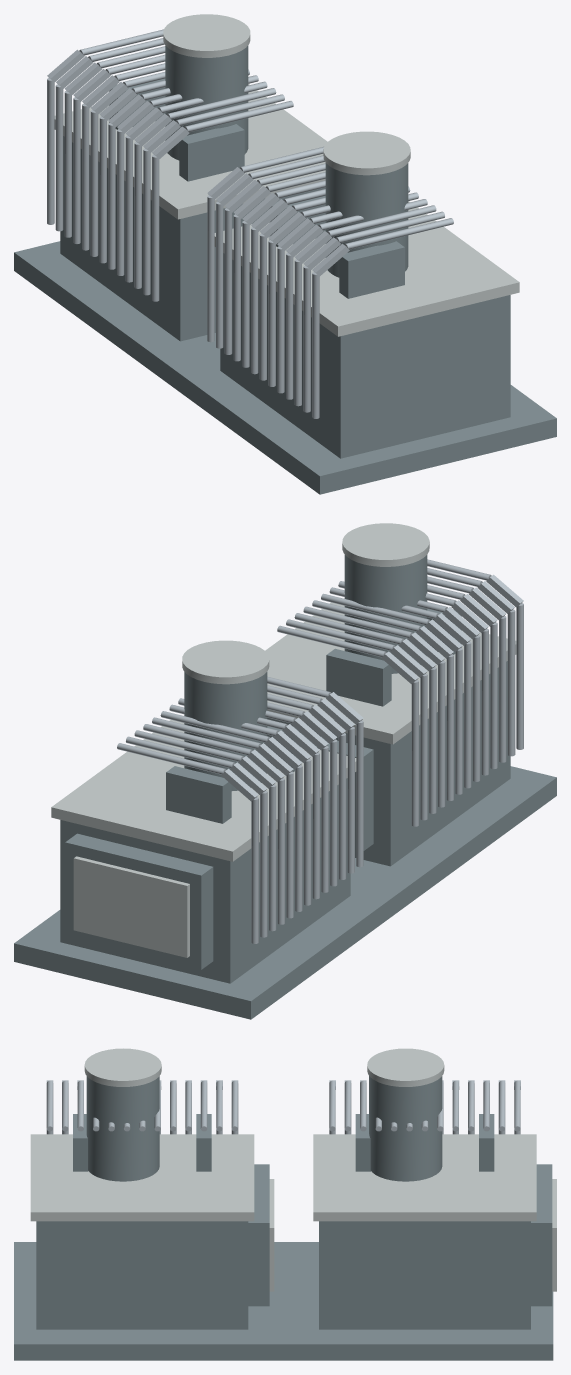
The model's file is press_exit_fin_bank.dae.
3 views of the same model, one above another, from view 1: azimuth 30°, elevation 25°; view 2: azimuth 150°, elevation 25°; view 3: azimuth 270°, elevation 25° (orthographic). The views are drawn at different scales.
Visible parts, largest first — view 1: press_exit_fin_bank; view 2: press_exit_fin_bank; view 3: press_exit_fin_bank.
Part boxes in pixels (x1=…): press_exit_fin_bank: x1=14, y1=14, x2=556, y2=494; press_exit_fin_bank: x1=14, y1=523, x2=556, y2=1019; press_exit_fin_bank: x1=14, y1=1048, x2=556, y2=1360.
Bounding box in the file's own units: 0.94 × 2.11 × 1.03.
